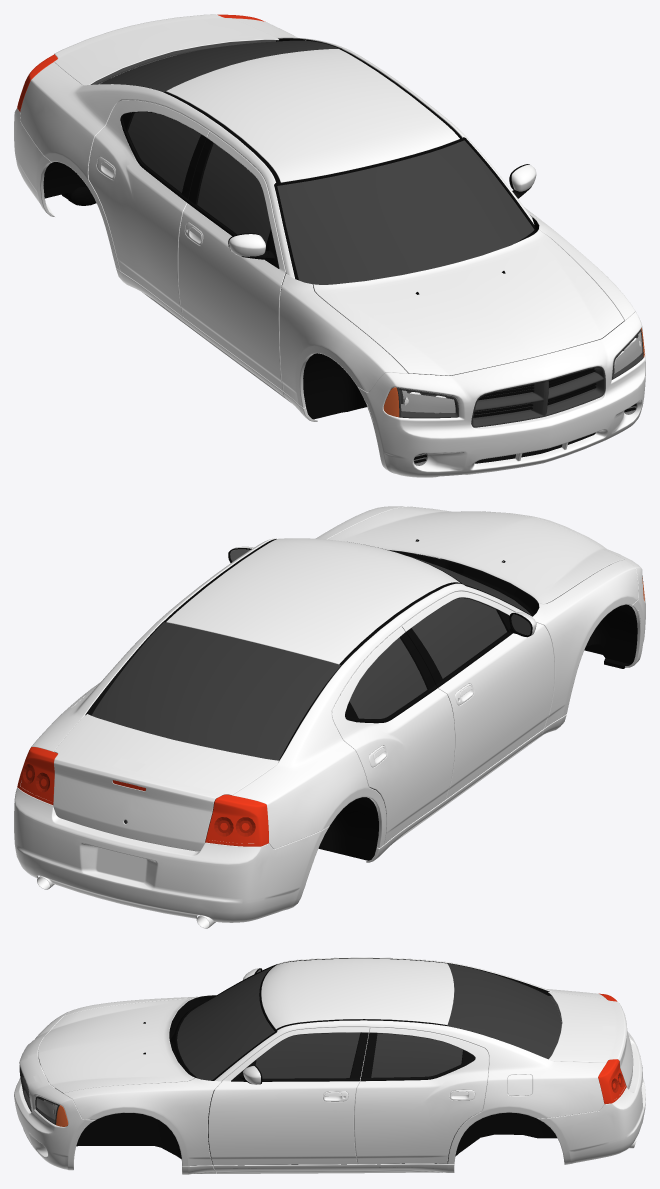
The model's file is Dodge.fbx.
3 renders of one model, top to bottom at view 1: azimuth 30°, elevation 25°; view 2: azimuth 150°, elevation 25°; view 3: azimuth 270°, elevation 25°, orthographic. The views are drawn at different scales.
Parts seen in each view (by area): view 1: CAR64, CAR2, CAR67, CAR51, CAR28, CAR20, CAR27, Cylinder, CAR8; view 2: CAR64, CAR2, CAR67, CAR120, CAR28, CAR27, Cylinder.003; view 3: CAR64, CAR2, CAR67, CAR29, CAR27, CAR120, CAR20, CAR21.
Part boxes in pixels (x1=…): CAR64: x1=14, y1=14, x2=645, y2=477; CAR2: x1=99, y1=40, x2=534, y2=284; CAR67: x1=43, y1=134, x2=624, y2=463; CAR51: x1=471, y1=366, x2=605, y2=427; CAR28: x1=120, y1=111, x2=279, y2=268; CAR20: x1=383, y1=328, x2=644, y2=417; CAR27: x1=274, y1=137, x2=539, y2=289; Cylinder: x1=397, y1=329, x2=643, y2=418; CAR8: x1=90, y1=40, x2=275, y2=84; CAR64: x1=14, y1=506, x2=645, y2=922; CAR2: x1=91, y1=556, x2=531, y2=760; CAR67: x1=125, y1=550, x2=637, y2=860; CAR120: x1=17, y1=747, x2=268, y2=846; CAR28: x1=345, y1=597, x2=516, y2=723; CAR27: x1=378, y1=547, x2=539, y2=616; Cylinder.003: x1=22, y1=764, x2=255, y2=836; CAR64: x1=14, y1=957, x2=645, y2=1174; CAR2: x1=177, y1=963, x2=561, y2=1080; CAR67: x1=57, y1=1077, x2=618, y2=1165; CAR29: x1=231, y1=1032, x2=475, y2=1081; CAR27: x1=169, y1=964, x2=277, y2=1080; CAR120: x1=598, y1=993, x2=626, y2=1104; CAR20: x1=36, y1=1098, x2=68, y2=1126; CAR21: x1=276, y1=1019, x2=447, y2=1030.
Bounding box in the file's own units: 1.98 × 1.27 × 4.9.
